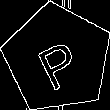P_NW: (30, 27, 85, 89)
